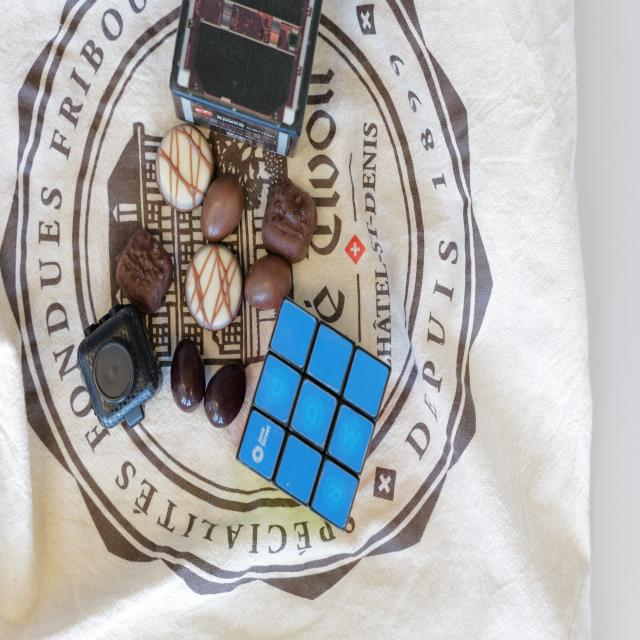Creme_brulee: (183, 244, 245, 331), (156, 123, 215, 212)
Jelly_Black: (171, 336, 207, 414), (206, 360, 246, 428)
Jelly_Milk: (201, 172, 244, 244), (244, 254, 292, 308)
Tentation_noir: (117, 226, 173, 314), (263, 177, 317, 262)
